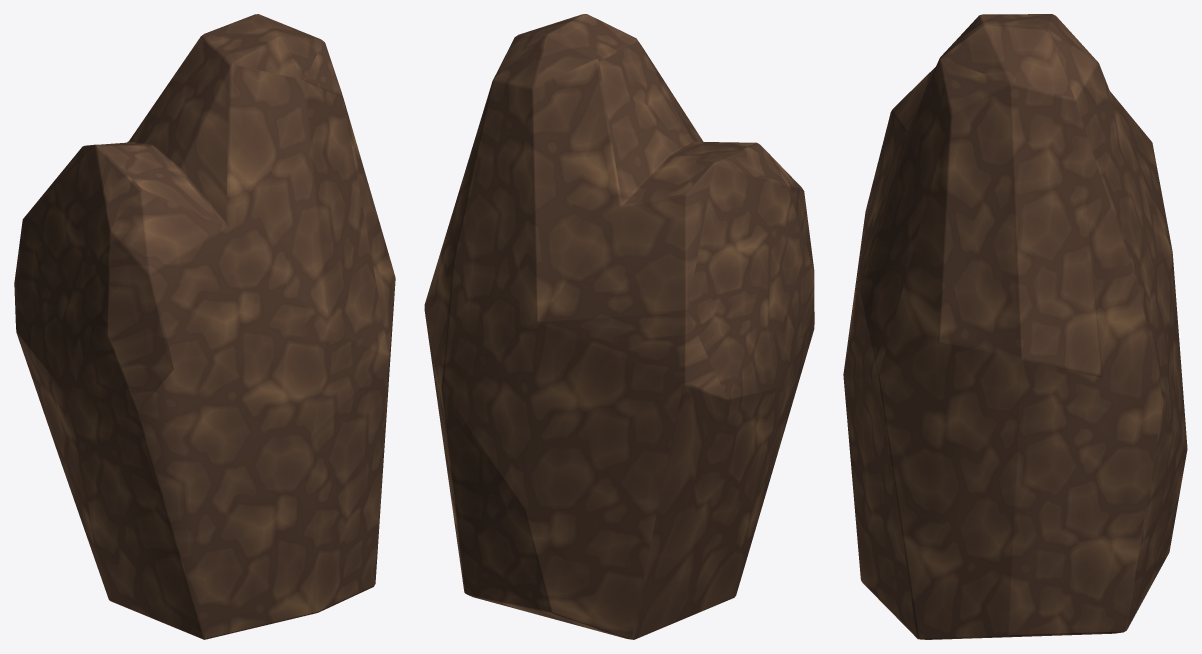
Rendered from TallRock.fbx.
3 views of the same model, side by side, from view 1: azimuth 30°, elevation 25°; view 2: azimuth 150°, elevation 25°; view 3: azimuth 270°, elevation 25° (orthographic). The views are drawn at different scales.
Visible parts, largest first — view 1: TallRock; view 2: TallRock; view 3: TallRock.
Part boxes in pixels (x1,y1,x2,y2): TallRock: (14, 14, 395, 639); TallRock: (424, 14, 814, 639); TallRock: (843, 14, 1187, 639).
Size of the model in its own units: 6.04 by 9.85 by 5.26.
